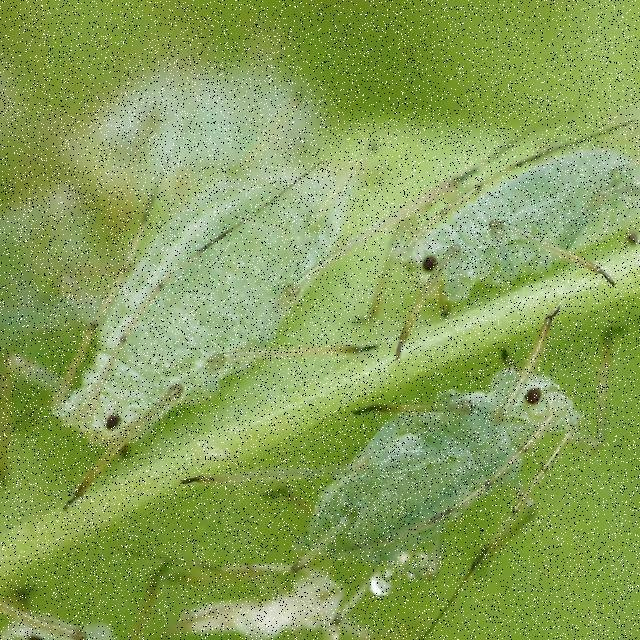Aphids: (30, 148, 369, 486), (262, 338, 610, 596), (376, 103, 640, 338)
